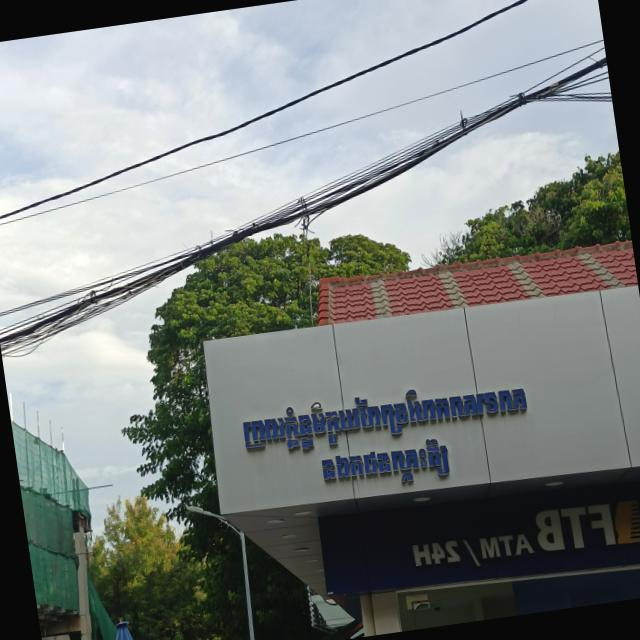Yolov11_80vkh: (236, 373, 532, 462), (317, 435, 455, 497)
